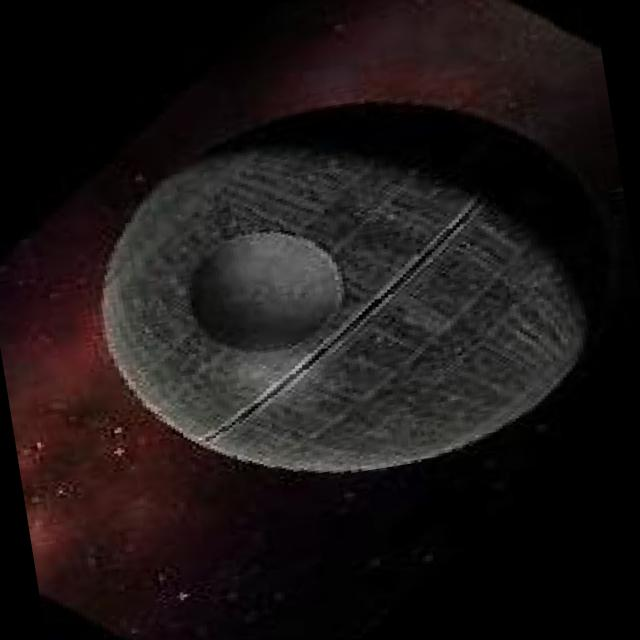Death Star: (68, 82, 612, 515)
